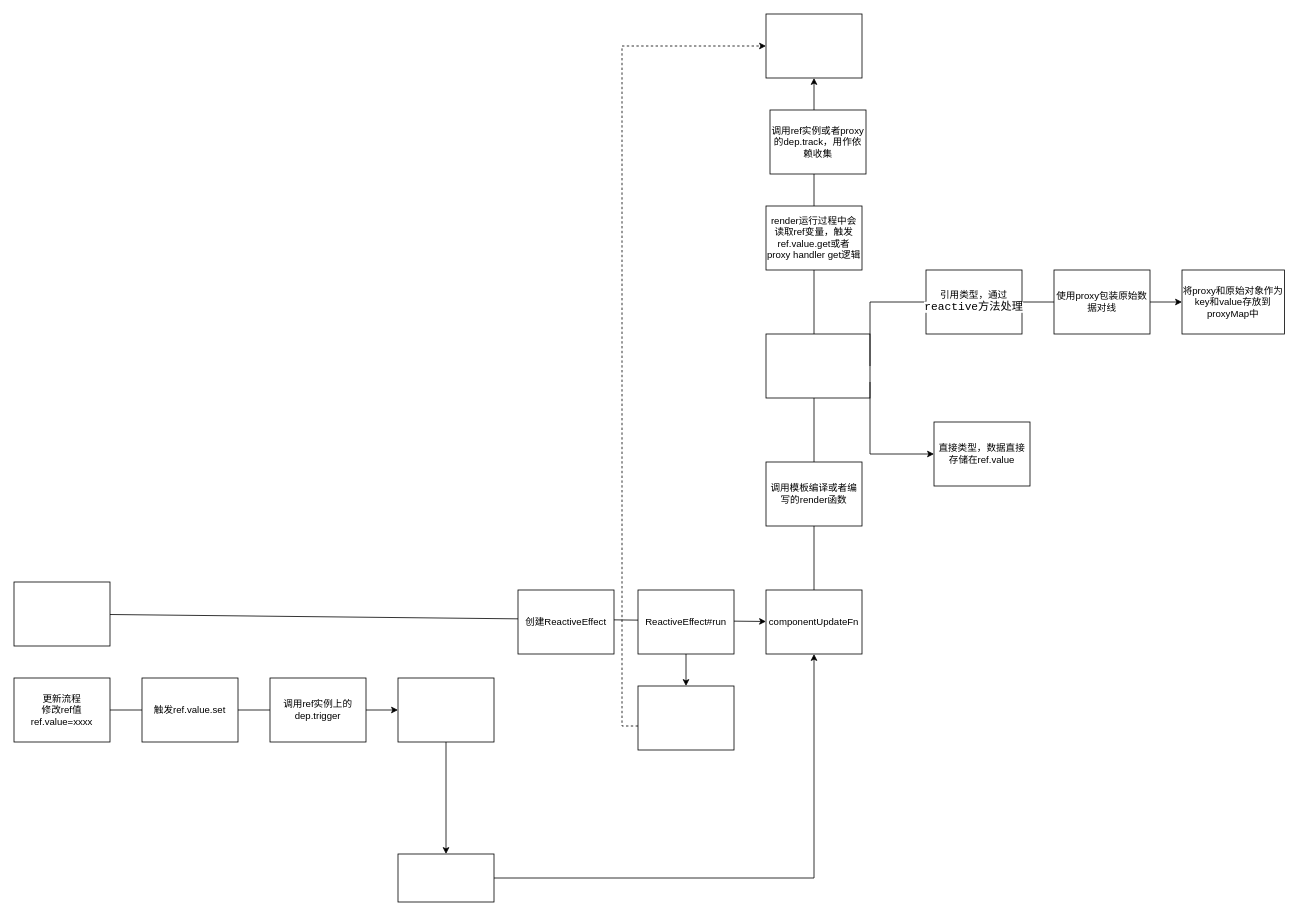
The diagram is 1298 pixels wide and 916 high, and some of its shapes have lost their labels. Each missing label, with the box of its shape:
创建ref响应式数据: (765, 333, 870, 398)
初始化流程 app.mount(): (13, 581, 110, 646)
将当前组件实例的ReactiveEffect对象赋值给模块内的activeSub: (637, 685, 734, 750)
执行过程中获取当前的activeSub对应的ReactiveEffect并添加到dep的订阅者列表中: (765, 13, 862, 78)
调用订阅当前dep的 ReactiveEffect#notify: (397, 677, 494, 742)
重新渲染组件: (397, 853, 494, 902)
